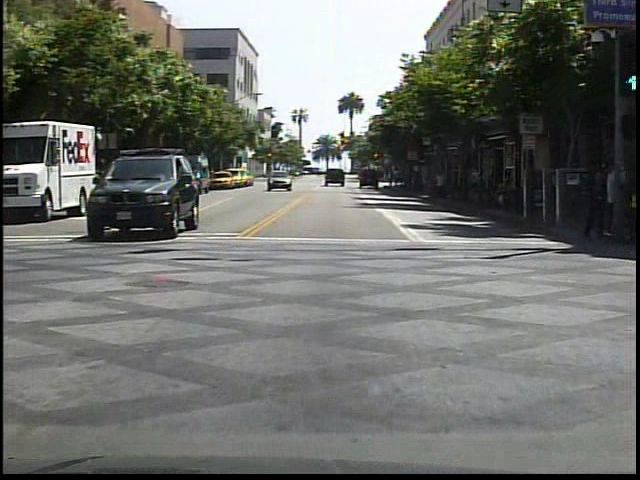person: (577, 154, 610, 242)
